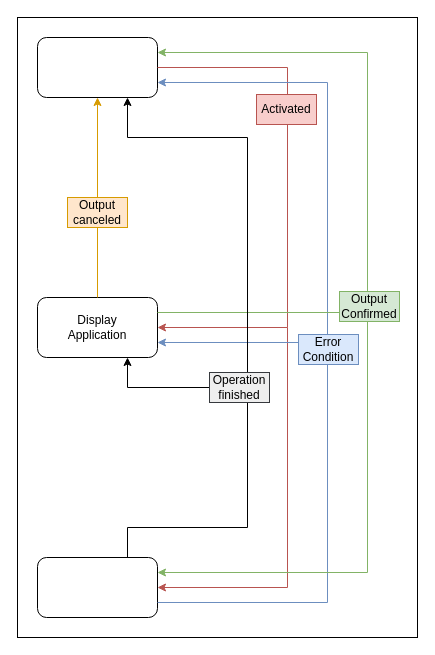
Some shapes in this 435 by 655 pixel diagram are drawn without their labels. The centre of each missing label's shape, as x and y in pixels:
"FlowControl Application" belongs at (x=97, y=587).
"NFC Application" belongs at (x=97, y=67).
